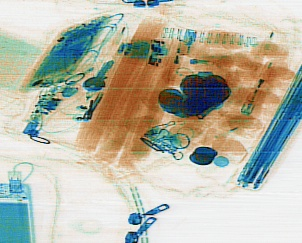lighter: (241, 59, 277, 117), (165, 26, 192, 85)
